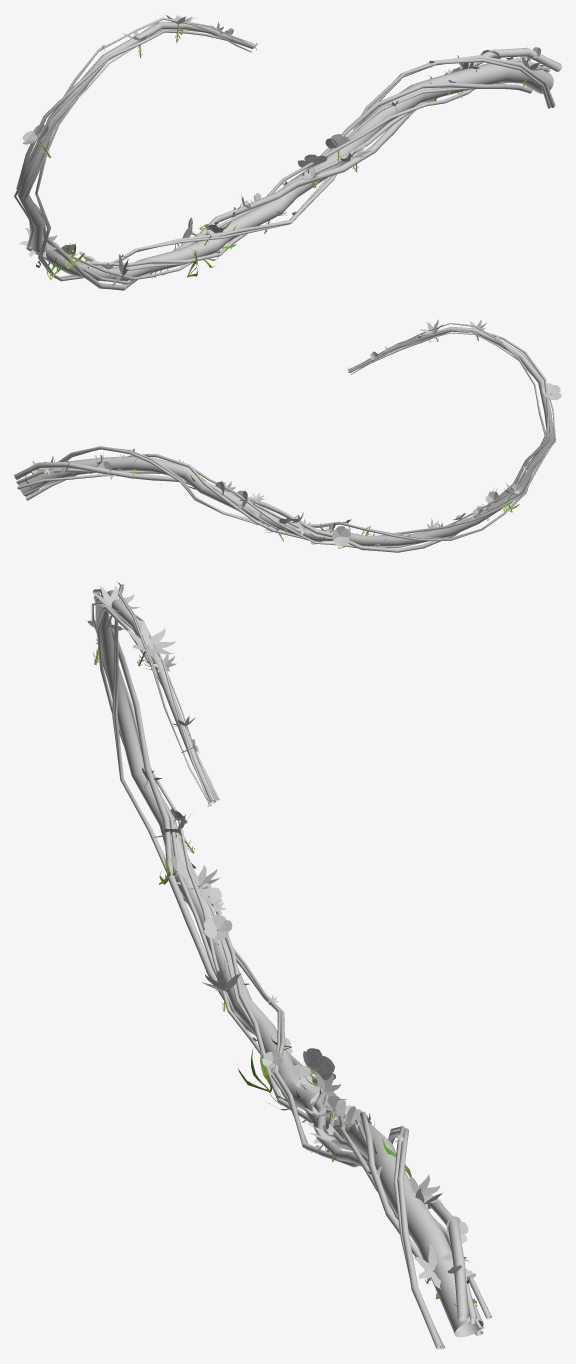
The model's file is vine_v2 4.fbx.
The picture shows the model from 3 angles, top to bottom: view 1: azimuth 30°, elevation 25°; view 2: azimuth 150°, elevation 25°; view 3: azimuth 270°, elevation 25°; orthographic projection. The views are drawn at different scales.
Visible parts, largest first — view 1: BezierCurve.004; view 2: BezierCurve.004; view 3: BezierCurve.004.
Boxes of the visible parts, left/top/right/bottom form: BezierCurve.004: left=14, top=14, right=561, bottom=290; BezierCurve.004: left=14, top=319, right=561, bottom=552; BezierCurve.004: left=84, top=581, right=491, bottom=1349.
Bounding box in the file's own units: 3195 × 1437 × 1234.
